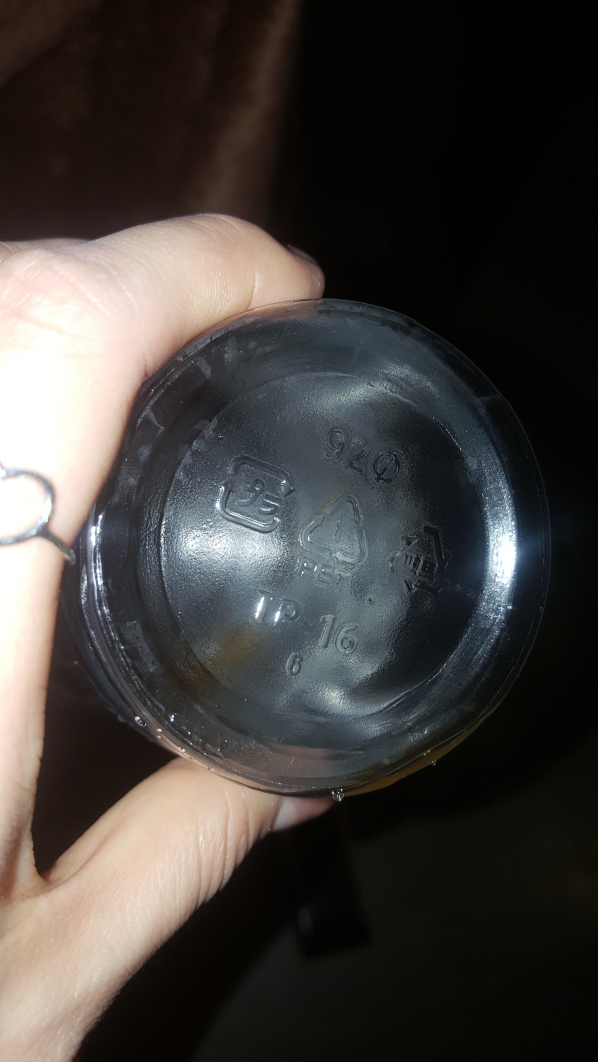recycle: (299, 477, 375, 598)
